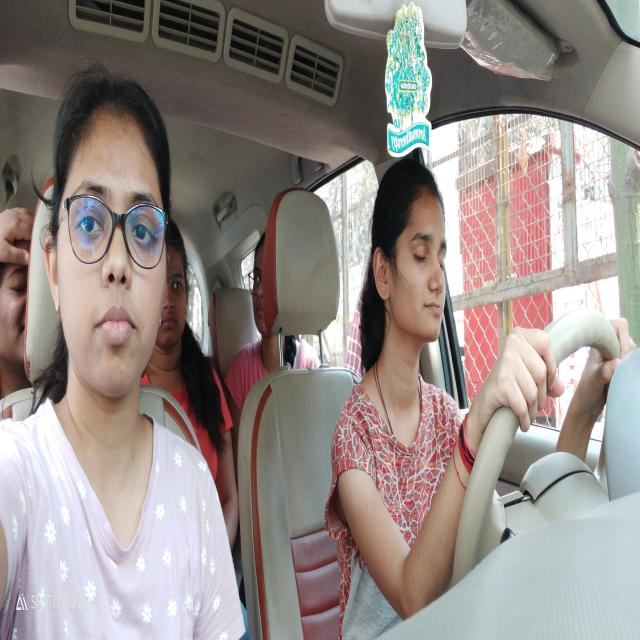drowsy: (368, 158, 449, 354)
person: (44, 87, 174, 400), (166, 224, 195, 345), (4, 227, 28, 368), (252, 230, 267, 330)
